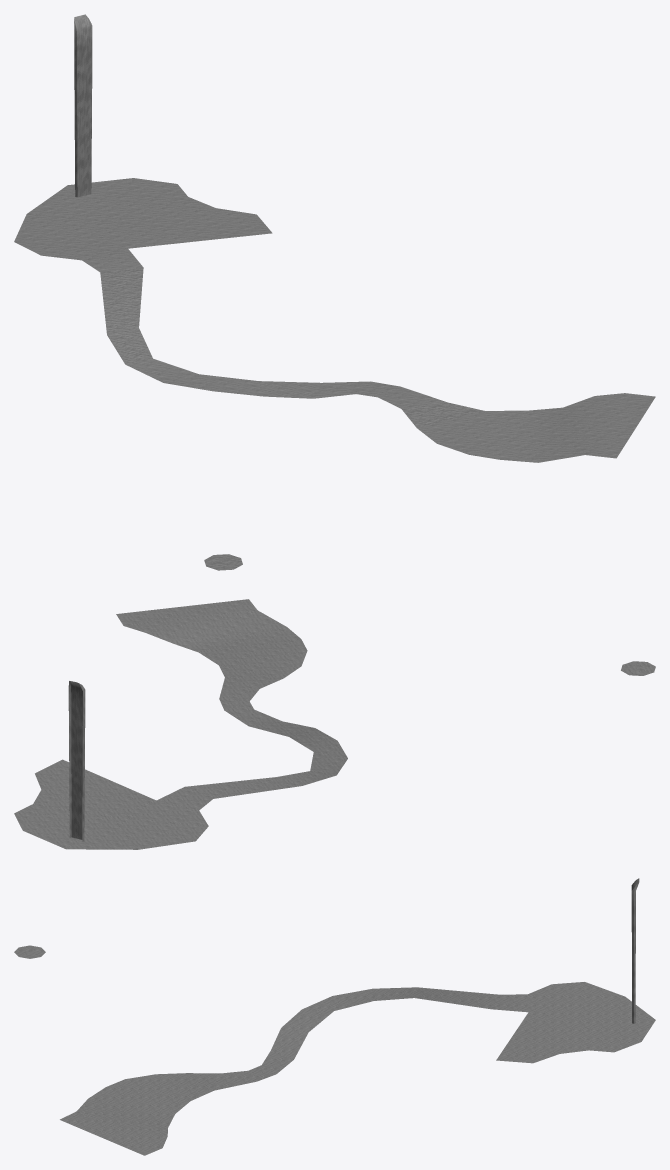
The model's file is Water.obj.
3 views of the same model, one above another, from view 1: azimuth 30°, elevation 25°; view 2: azimuth 150°, elevation 25°; view 3: azimuth 270°, elevation 25° (orthographic). The views are drawn at different scales.
Size of the model in its own units: 2268 by 916 by 3041.
1 material, 1 textured.
